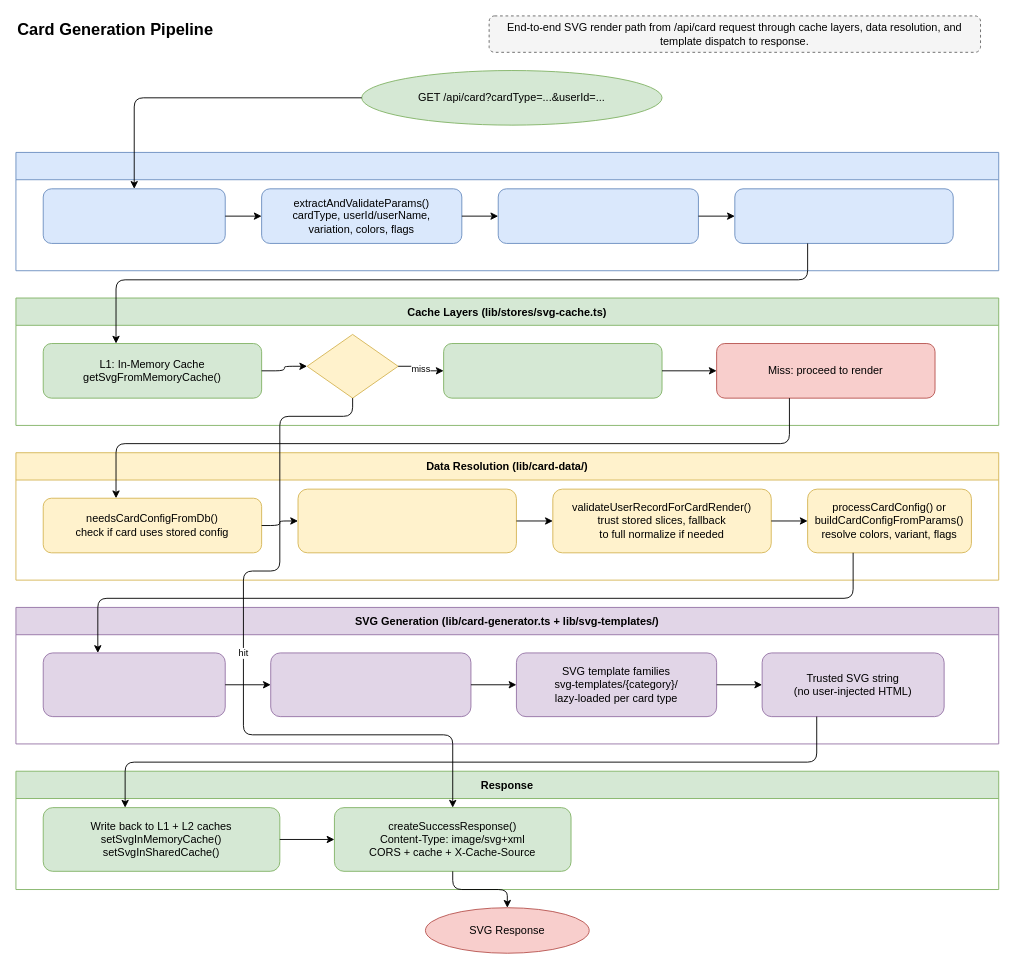
The diagram is 1015 pixels wide and 969 high, and some of its shapes have lost their labels. The shapes that lost their labels are listed below. From the top down, each one's box as (x1, y1, x2, y2) in pixels, then its label:
(42, 188, 225, 243): ensureRequestContext() X-Request-Id + rate limit
(15, 152, 999, 271): Route Handler (app/api/card/route.ts)
(497, 188, 698, 243): resolveEffectiveUserId() username:{normalized} lookup
(734, 188, 953, 243): generateCacheKey() hash of render-affecting params
(306, 334, 398, 398): Hit?
(443, 343, 662, 398): L2: Shared Redis Cache getSvgFromSharedCache()
(297, 488, 516, 553): fetchUserData() getPartsForCard() loads only required split record parts
(42, 652, 225, 717): generateCardSvg() derive base card type normalizeVariant()
(270, 652, 471, 717): processing.ts buildCommonTemplateFields() toTemplate*() mappers
